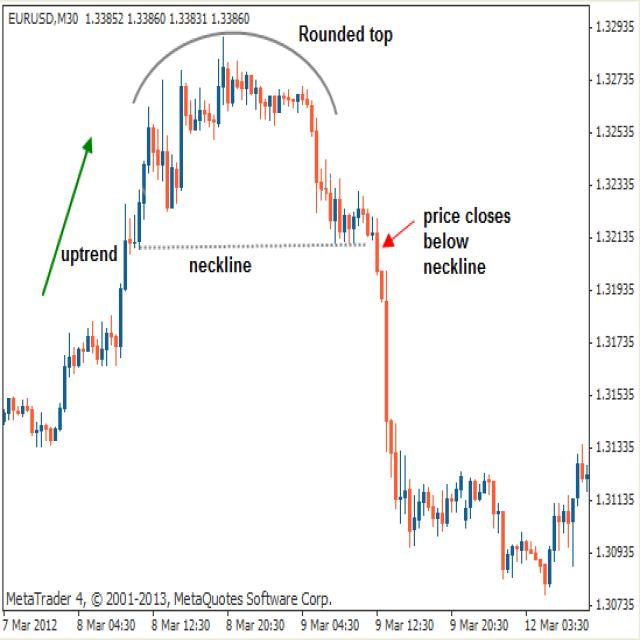Rounding-Top: (114, 44, 373, 241)
